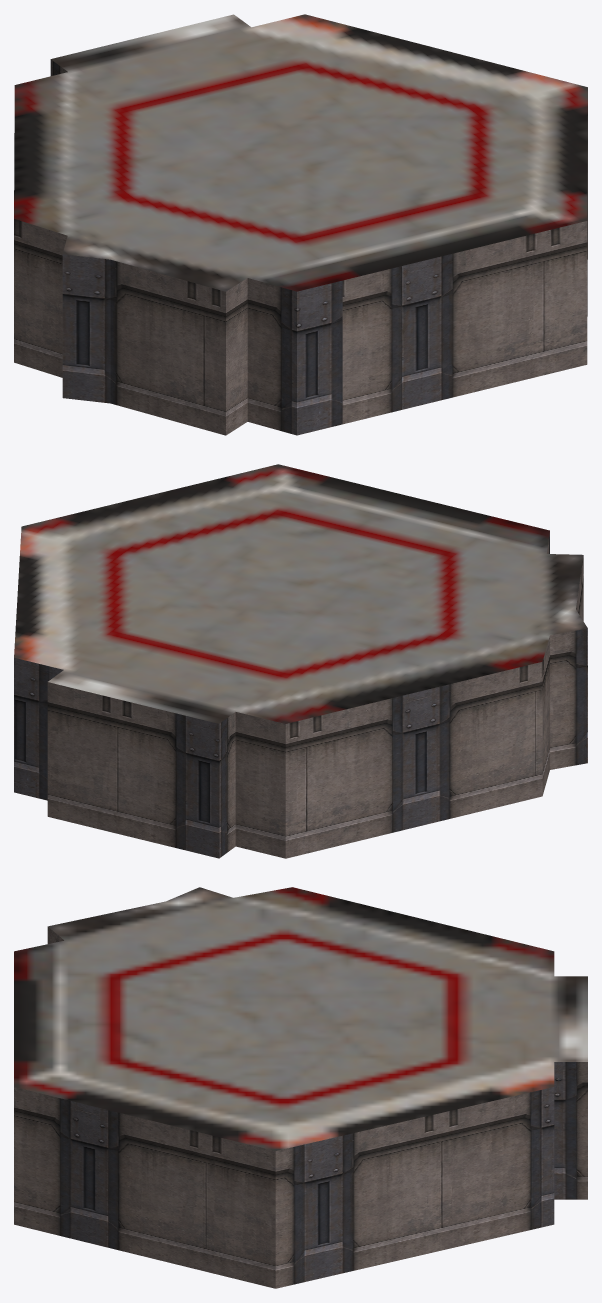
The model's file is bsealed_light_17.glb.
3 renders of one model, top to bottom at view 1: azimuth 30°, elevation 25°; view 2: azimuth 150°, elevation 25°; view 3: azimuth 270°, elevation 25°, orthographic. The views are drawn at different scales.
Visible parts, largest first — view 1: buildings/saxarba/bsealed_light/bsealed_light_17; view 2: buildings/saxarba/bsealed_light/bsealed_light_17; view 3: buildings/saxarba/bsealed_light/bsealed_light_17.
Boxes of the visible parts, bbox=[...] form: buildings/saxarba/bsealed_light/bsealed_light_17: bbox=[14, 14, 587, 435]; buildings/saxarba/bsealed_light/bsealed_light_17: bbox=[14, 464, 587, 858]; buildings/saxarba/bsealed_light/bsealed_light_17: bbox=[14, 887, 587, 1288].
Bounding box in the file's own units: 74 × 18 × 68.
